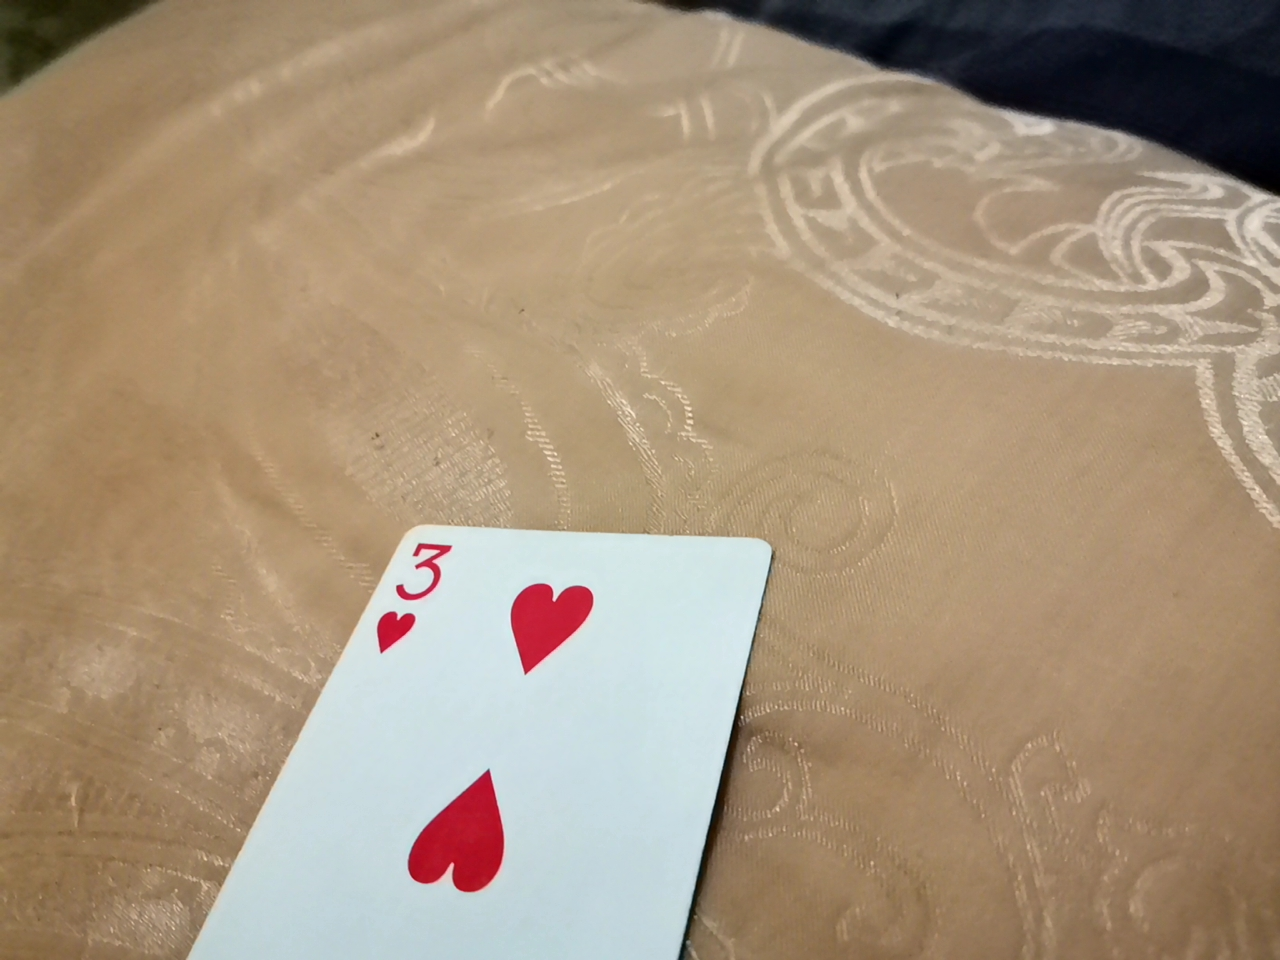hx 3: (111, 512, 782, 949)
